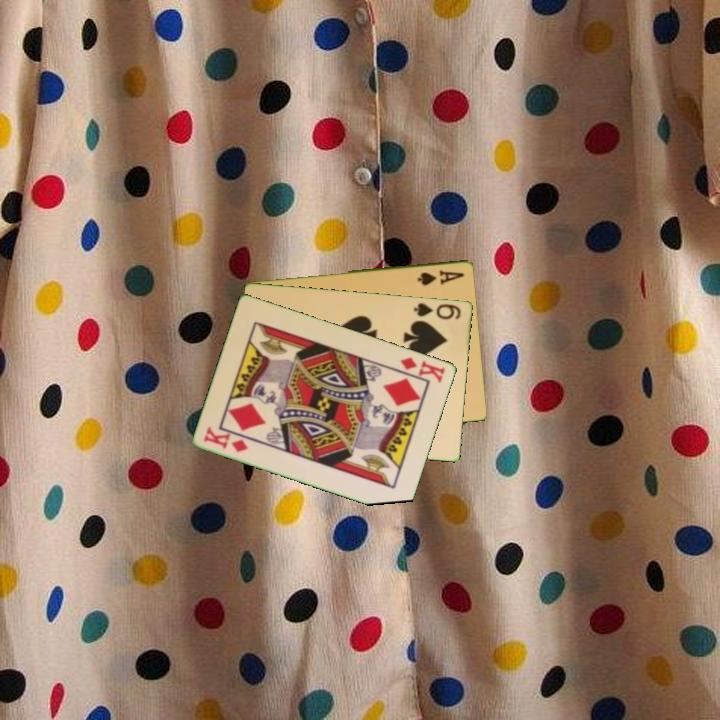6s: (411, 299, 464, 322)
As: (414, 266, 467, 288)
Kd: (397, 353, 448, 386), (200, 424, 251, 455)
